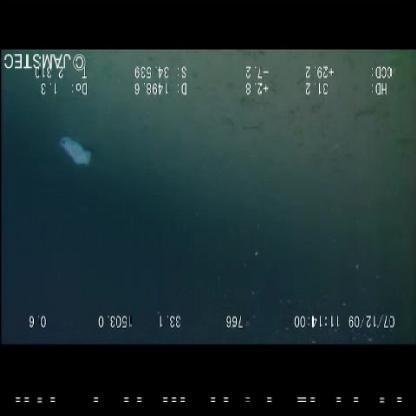Rác: (54, 124, 94, 174)
